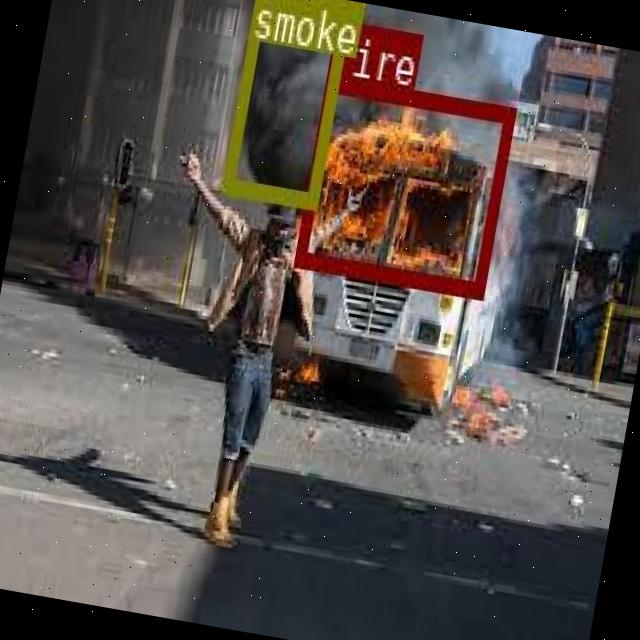fire: (294, 74, 514, 294)
smoke: (219, 0, 349, 207)
